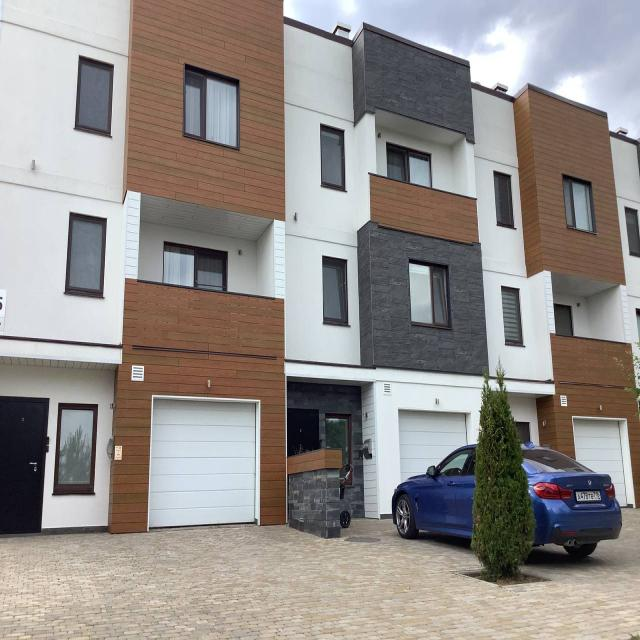Building: (0, 0, 640, 538)
